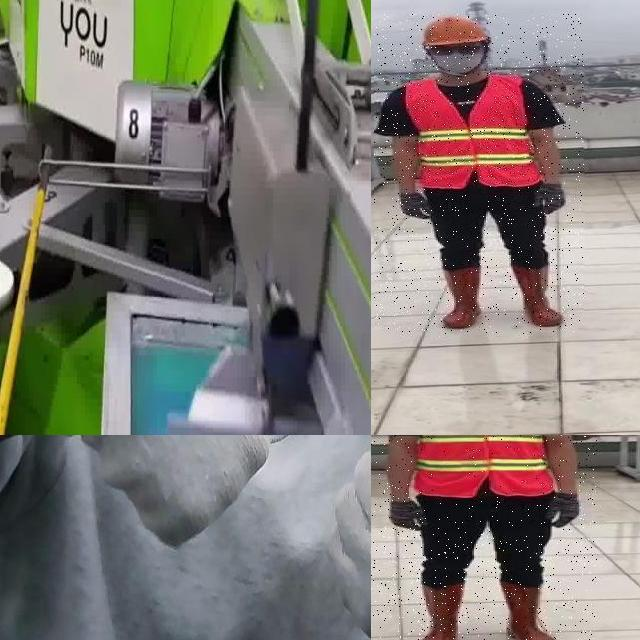BOOTS: (499, 583, 563, 640), (509, 266, 563, 329), (436, 269, 490, 329), (417, 579, 463, 640)
GLASS: (425, 44, 485, 55)
GLOVE: (40, 435, 285, 547), (399, 190, 439, 231), (533, 182, 569, 218), (389, 497, 428, 530), (548, 491, 580, 528)
HELMET: (416, 15, 492, 48)
VEST: (402, 76, 540, 188), (410, 435, 560, 498)
